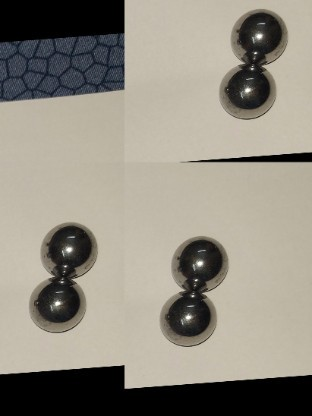ironball: (215, 56, 279, 122), (165, 231, 232, 293), (151, 295, 220, 347), (230, 6, 290, 61), (42, 224, 98, 279), (29, 279, 87, 331)
